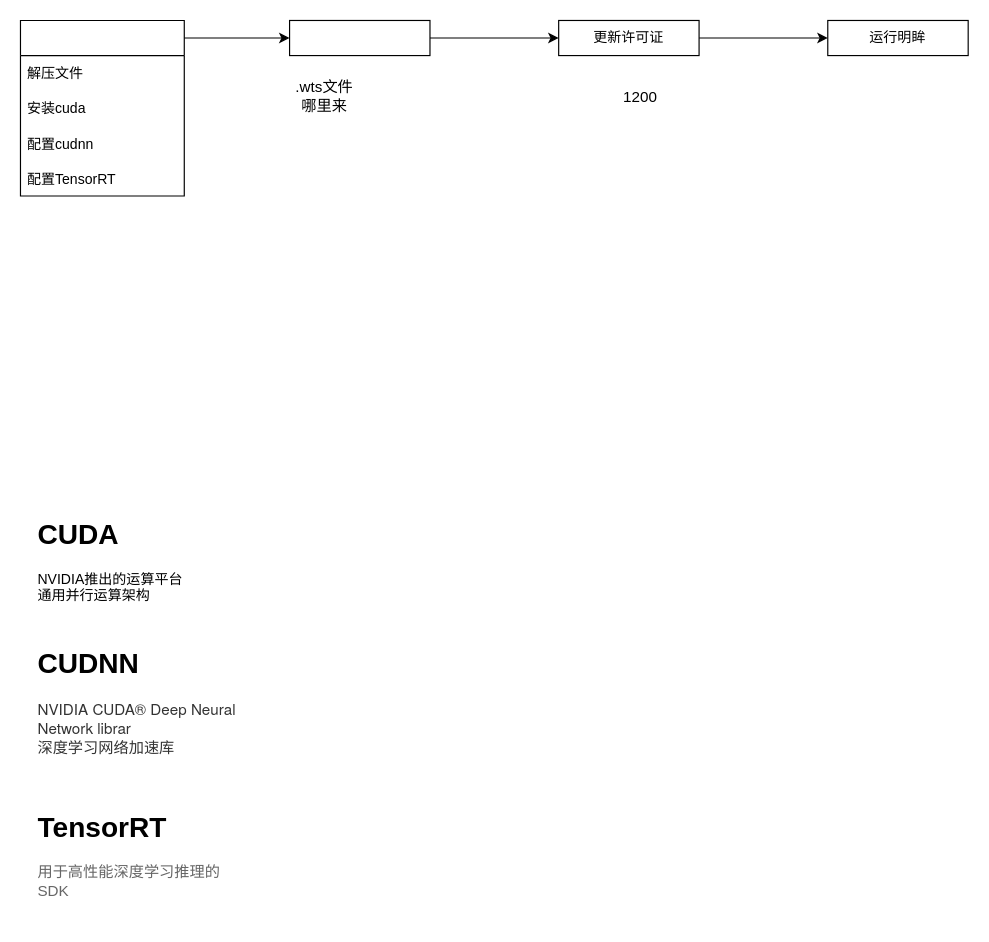
This 989x942 diagram has some shape labels left out. The box of each missing label's shape, as (x1, y1, x2, y2) in pixels:
环境搭建: (19, 19, 184, 196)
生成模型: (288, 19, 430, 56)
